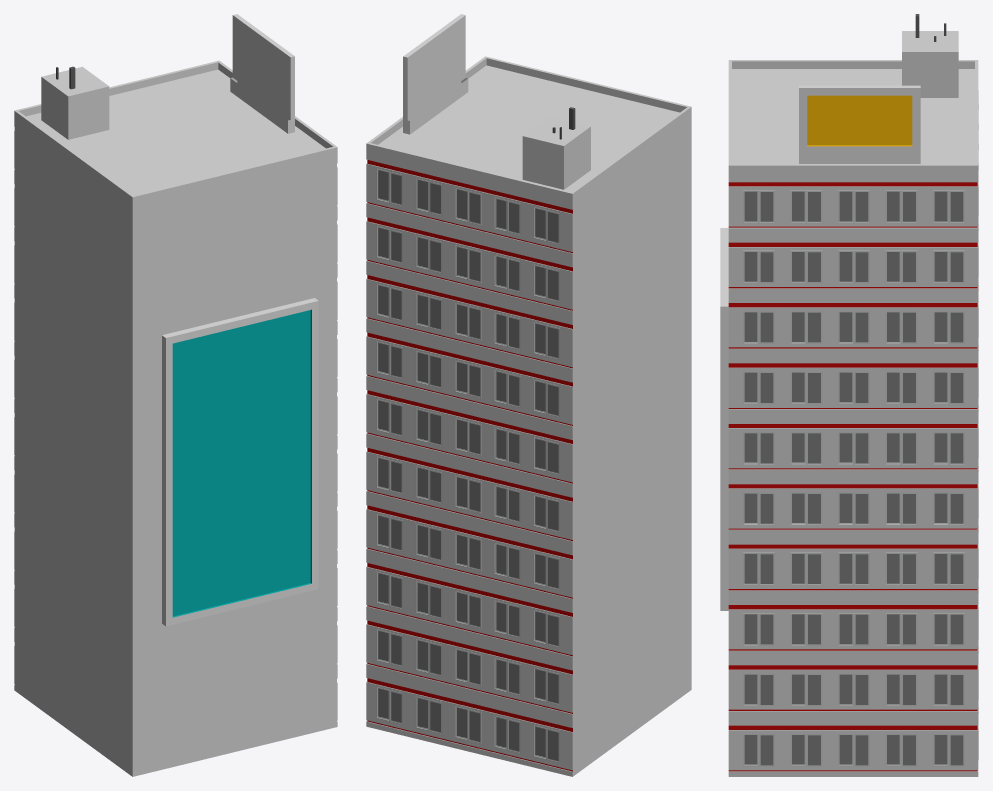
The model's file is Punk2.fbx.
3 views of the same model, side by side, from view 1: azimuth 30°, elevation 25°; view 2: azimuth 150°, elevation 25°; view 3: azimuth 270°, elevation 25° (orthographic). The views are drawn at different scales.
Parts seen in each view (by area): view 1: Group1, Group5, Group2, Group4, Group3, Group6, Group7; view 2: Group1, Group2, Group4, Group7, Group6, Group3; view 3: Group1, Group2, Group3, Group4, Group7, Group6, Group5.
Boxes of the visible parts, x1,y1,x2,y2 form: Group1: (14,347,337,776); Group5: (162,298,318,626); Group2: (14,69,337,261); Group4: (14,175,337,318); Group3: (14,14,337,212); Group6: (14,232,337,375); Group7: (14,290,337,433); Group1: (366,344,691,776); Group2: (366,65,691,258); Group4: (366,172,691,316); Group7: (366,287,691,431); Group6: (366,229,691,373); Group3: (366,14,691,209); Group1: (728,398,978,776); Group2: (728,69,978,233); Group3: (728,14,978,182); Group4: (728,217,978,293); Group7: (728,338,978,414); Group6: (728,277,978,354); Group5: (720,228,728,610).
Bounding box in the file's own units: 1502 × 4531 × 1552.
